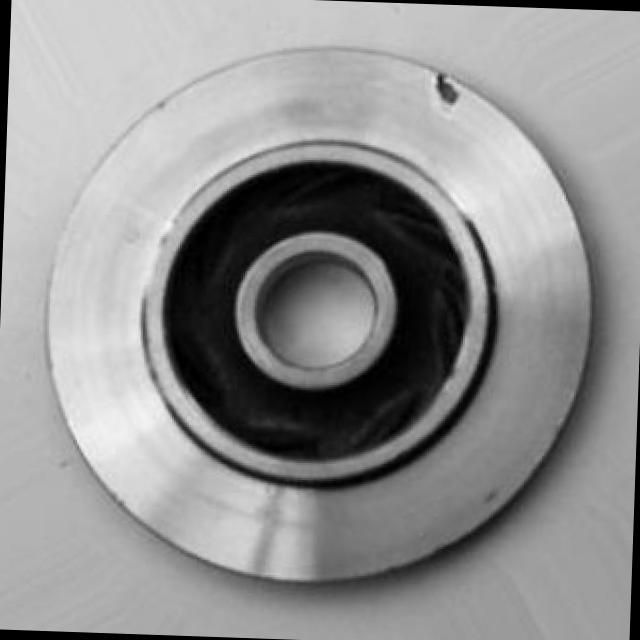Defect: (432, 64, 459, 113)
